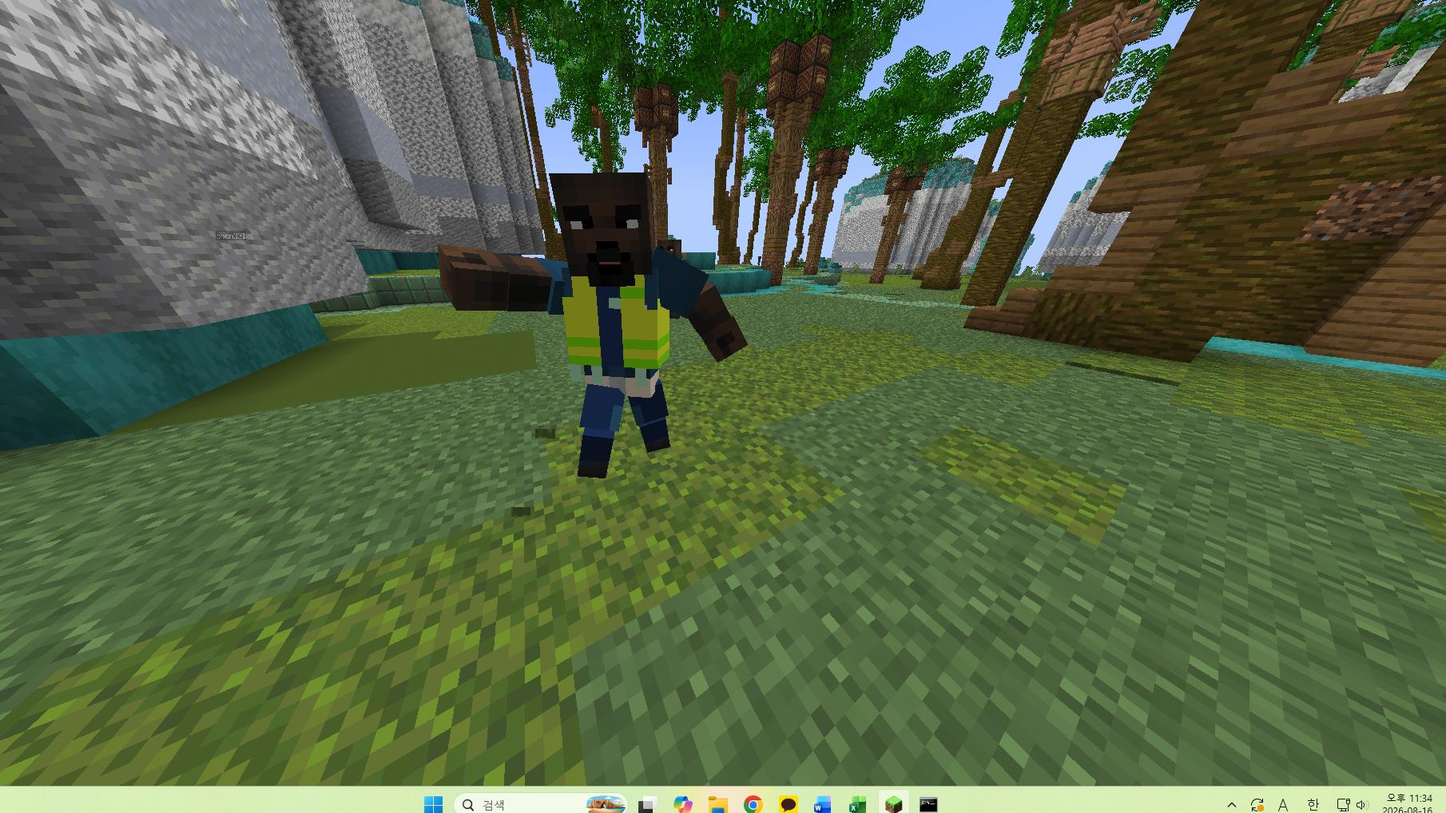Guardian: (438, 173, 746, 478)
